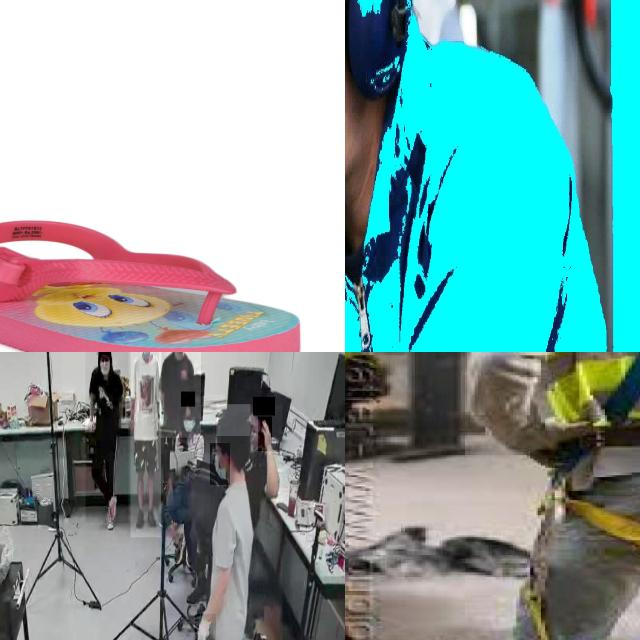Ear-protection: (349, 0, 427, 133)
Harness: (545, 352, 640, 561)
Sandals: (0, 218, 302, 352)
face_mask: (210, 443, 230, 485), (98, 352, 111, 372)
hand_glove: (195, 613, 216, 640)
hand_noglove: (258, 416, 272, 452), (85, 416, 95, 434), (128, 412, 134, 429)
head_nohelmet: (217, 404, 251, 437), (253, 397, 275, 416), (181, 392, 195, 408), (96, 352, 111, 356)
person: (191, 405, 282, 640), (85, 352, 128, 524), (130, 352, 161, 538), (158, 352, 201, 439)
shoes: (106, 493, 118, 522), (146, 504, 158, 530), (133, 506, 145, 530)
